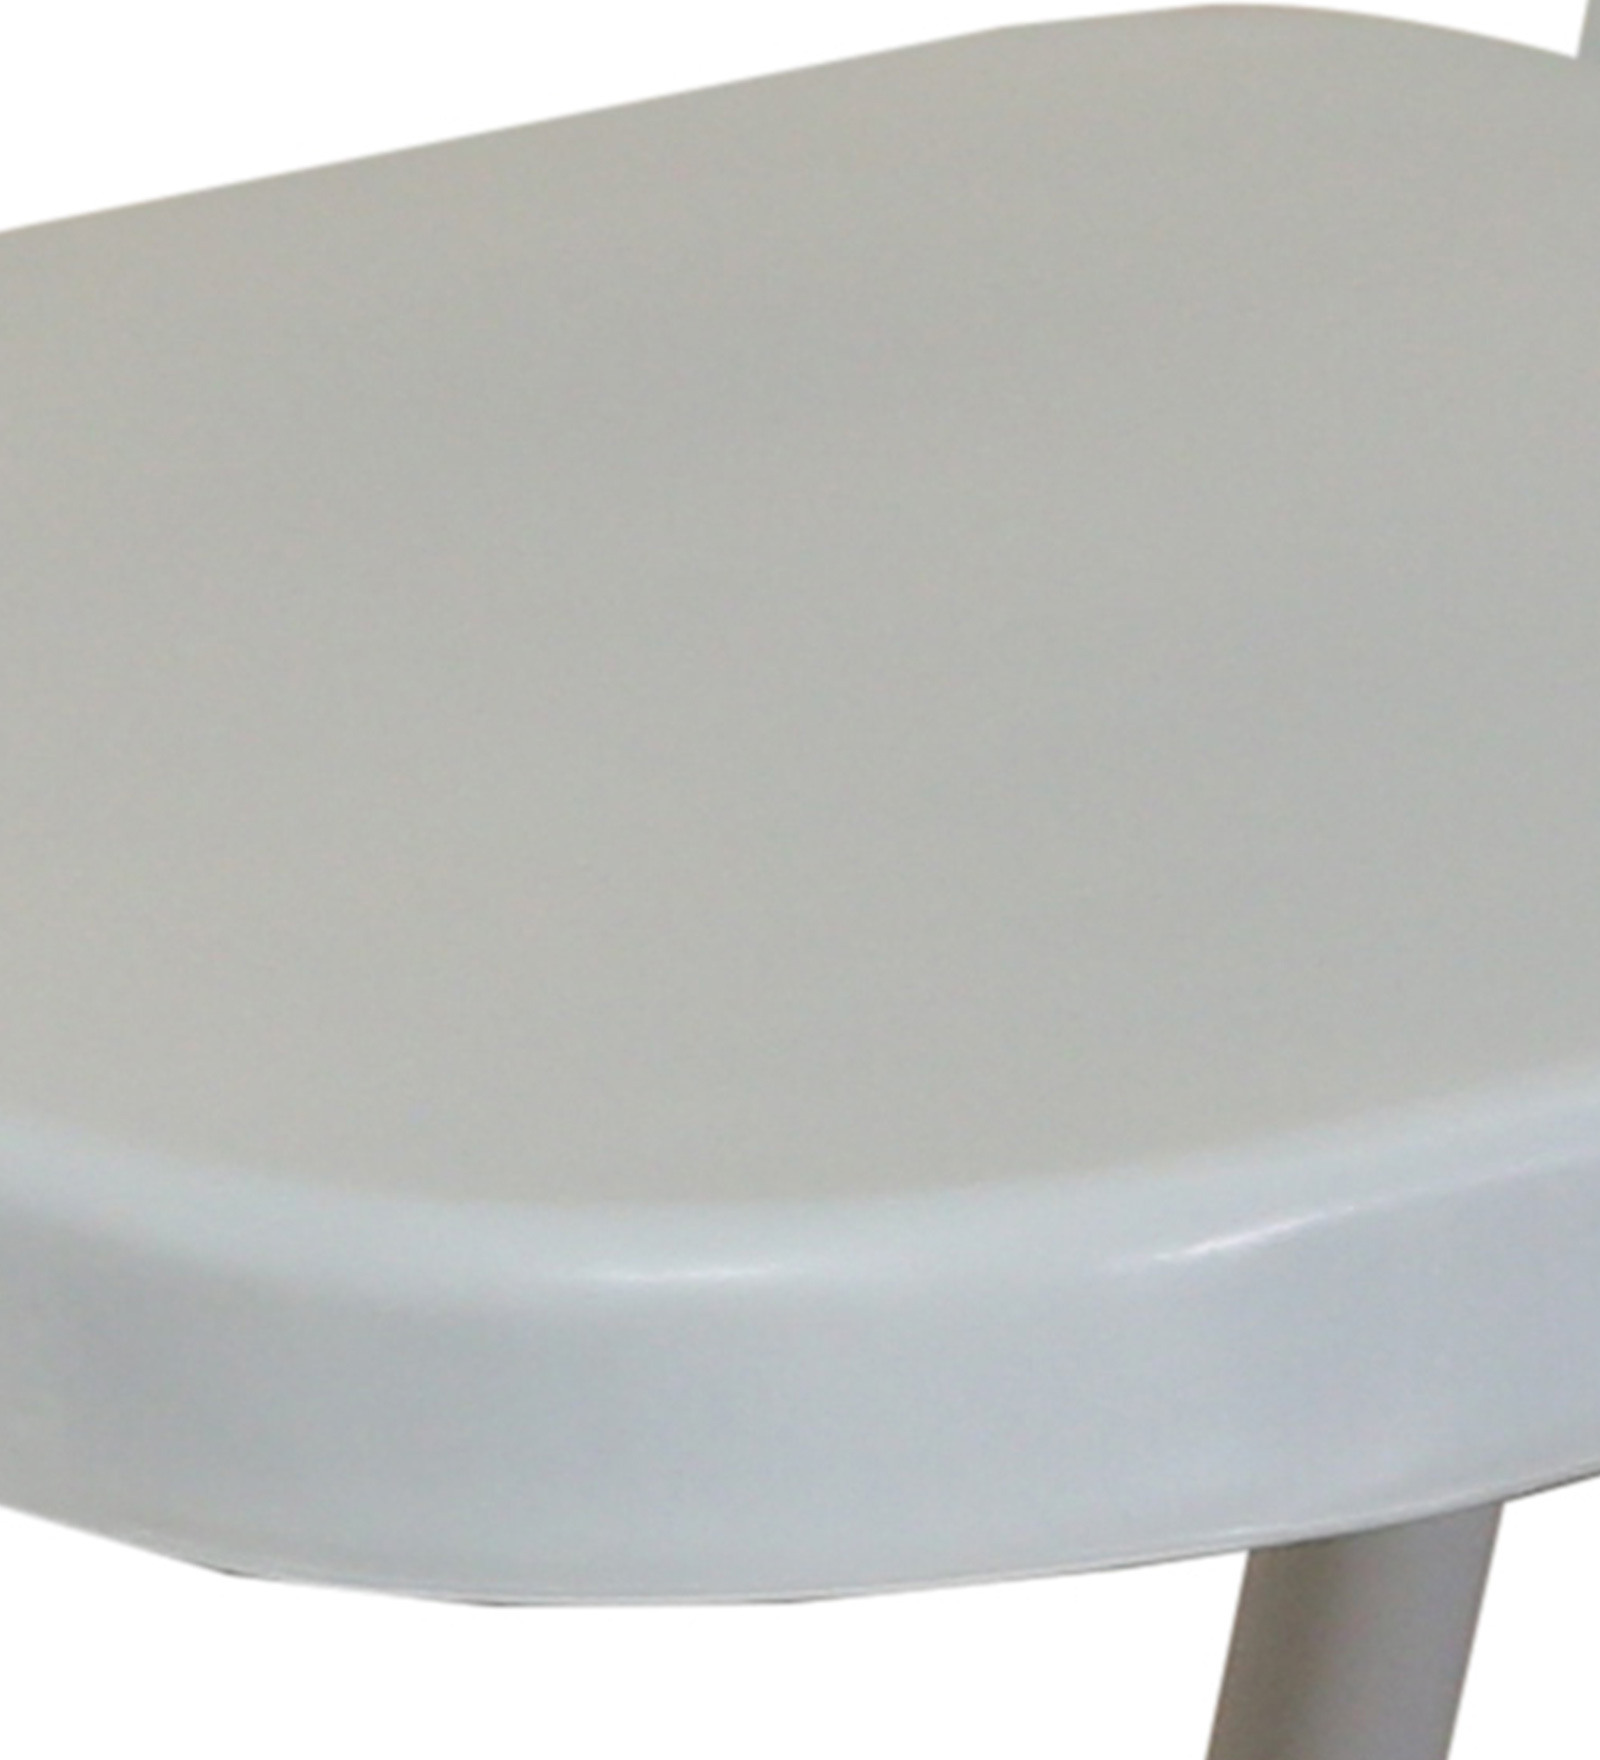Kell Folding Chair (Set of 2) in White Color by Bohemiana: (12, 17, 1600, 1751)
